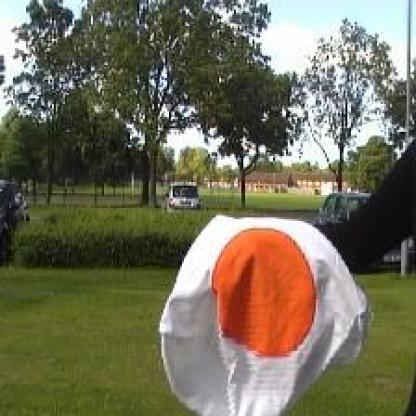other: (200, 225, 336, 375)
